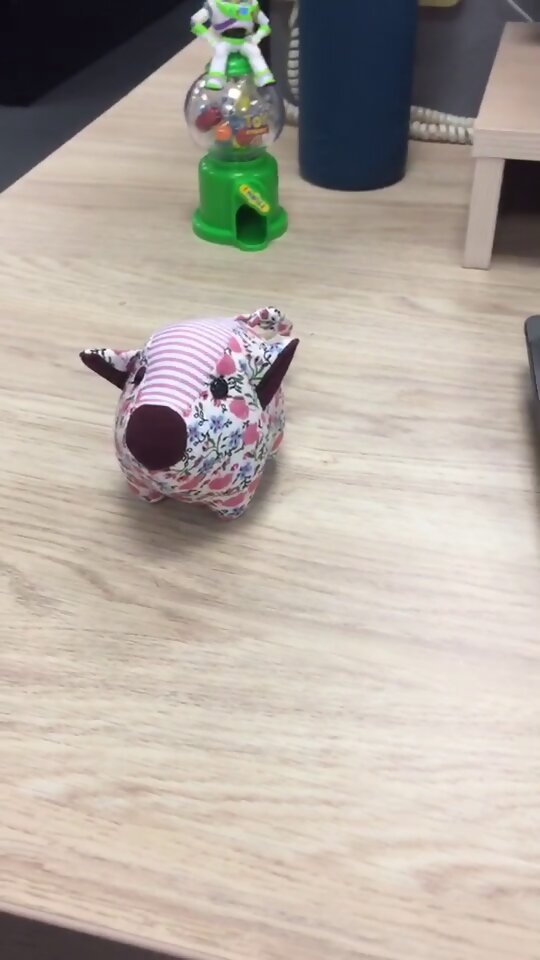pig: (74, 299, 307, 523)
